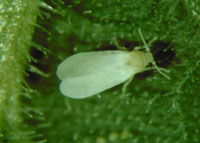Tobacco Whitefly: (52, 38, 152, 98)
